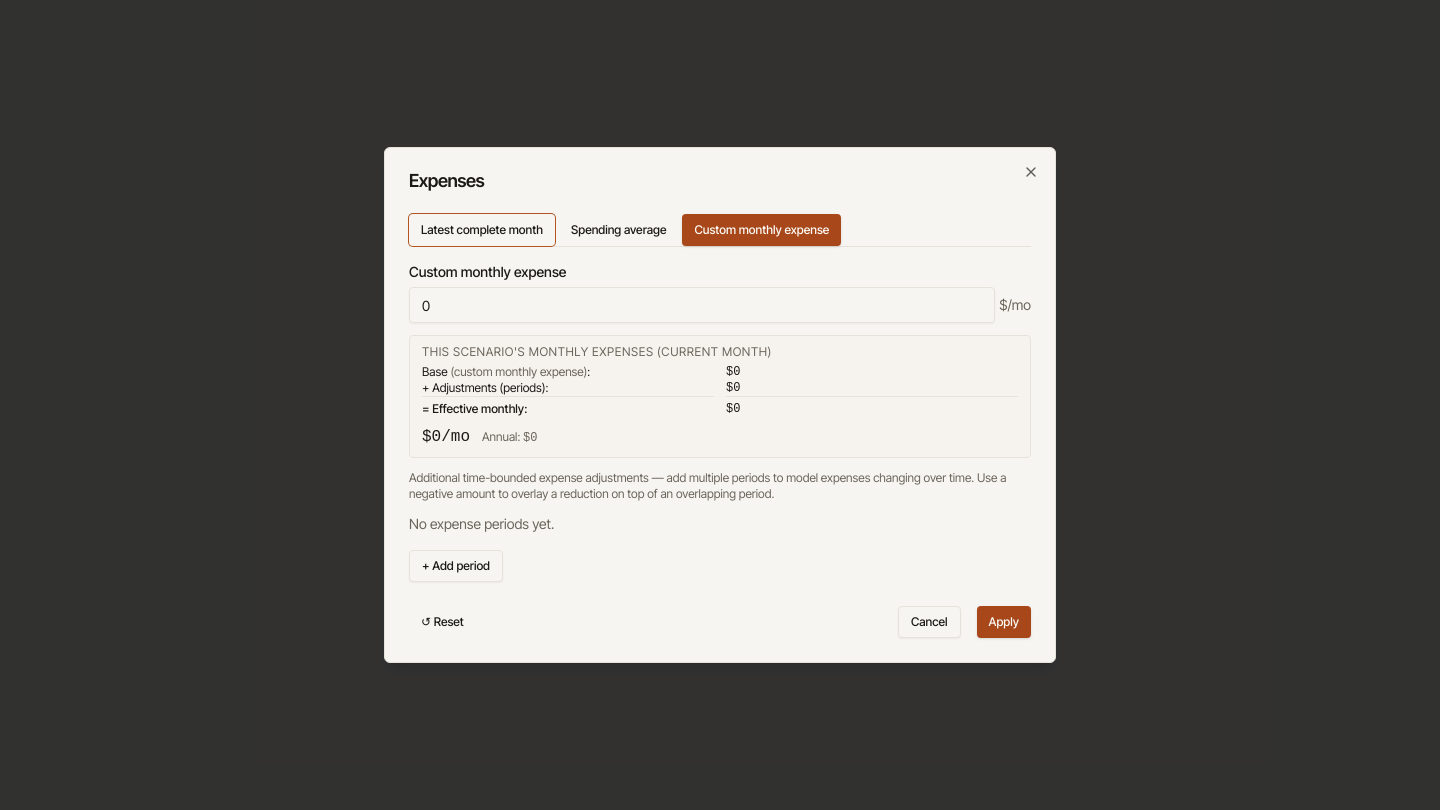
Test case: ExpensePeriodsPopover › clicking + Add appends a row and shows the live total-cost preview
Click the button "+ Add period". click: (456, 566)
box: [409,550,503,582]
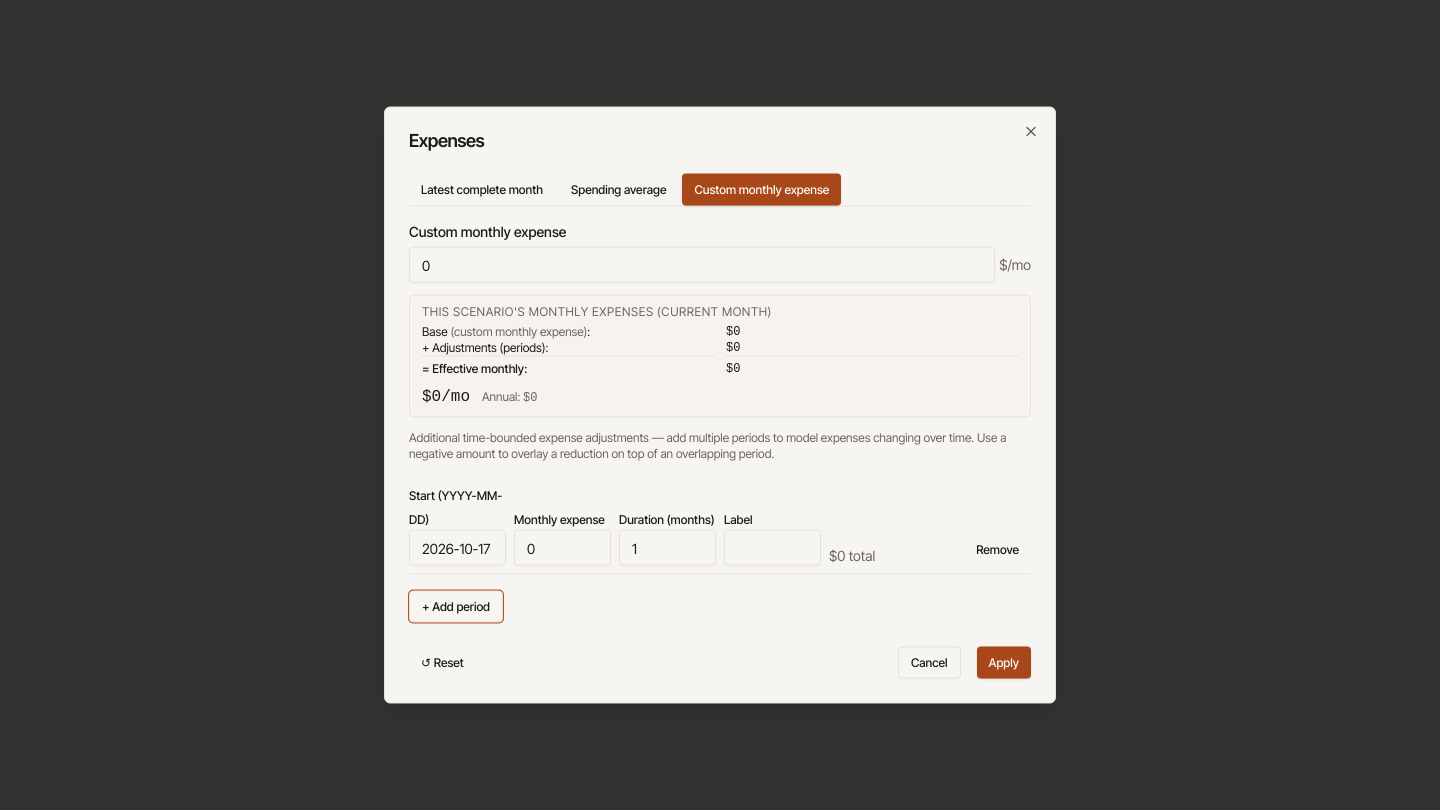
Replace the text in the field labelled "Start (YYYY-MM-DD)" with "2026-07-01". click: (458, 548)
box: [409,530,506,566]
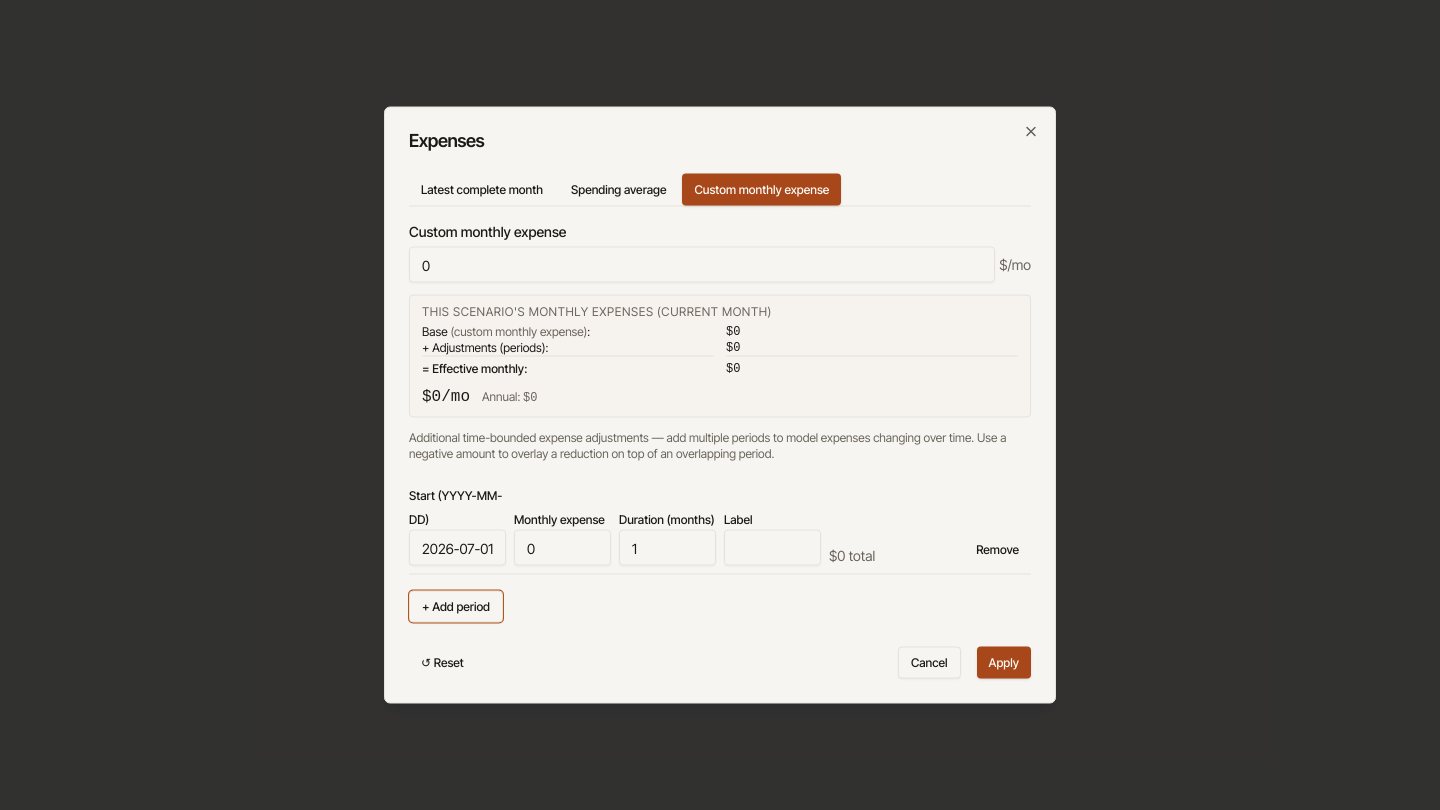
Replace the text in the number field labelled "Monthly expense" with "1500". click: (562, 548)
box: [514,530,611,566]
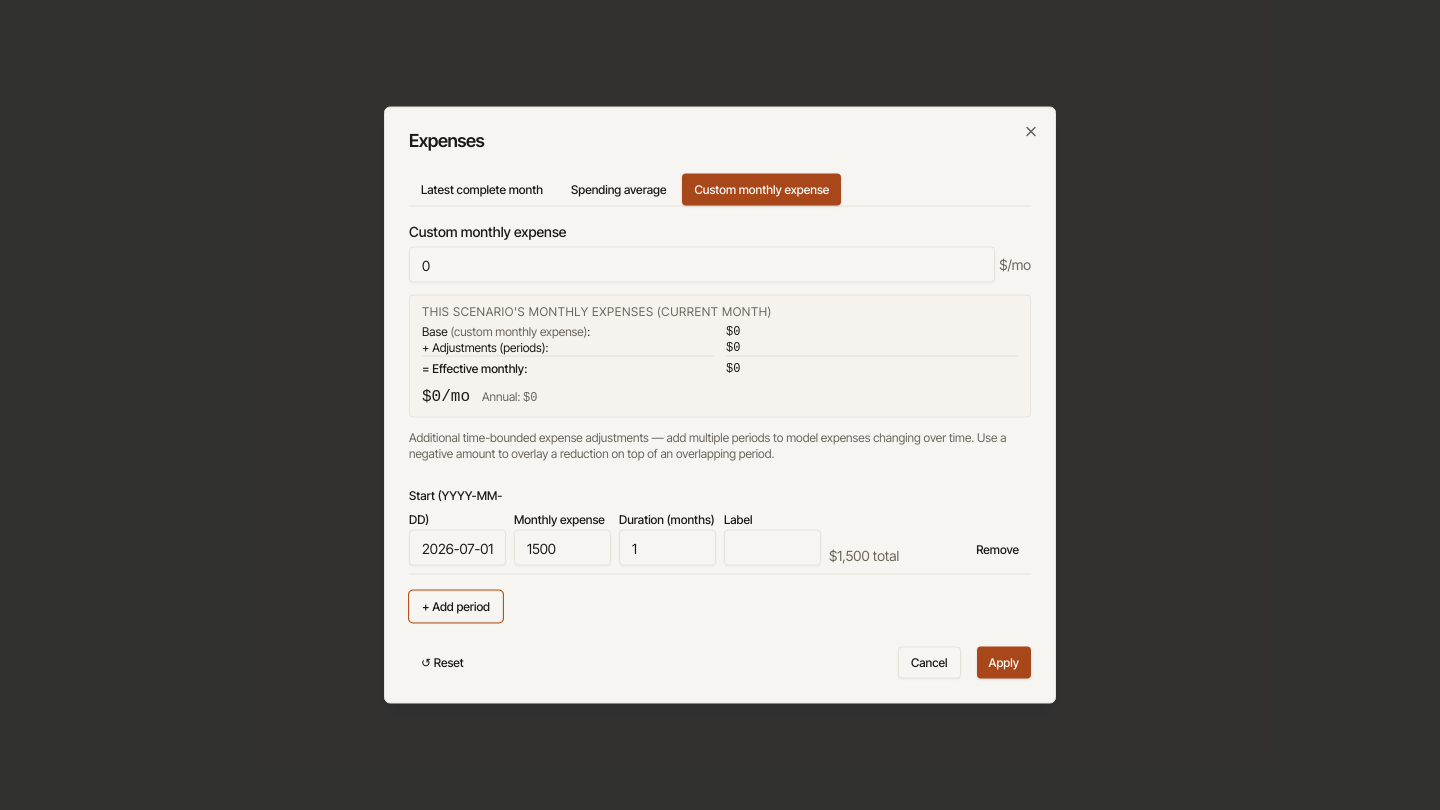
Replace the text in the number field labelled "Duration (months)" with "6". click: (668, 548)
box: [619,530,716,566]
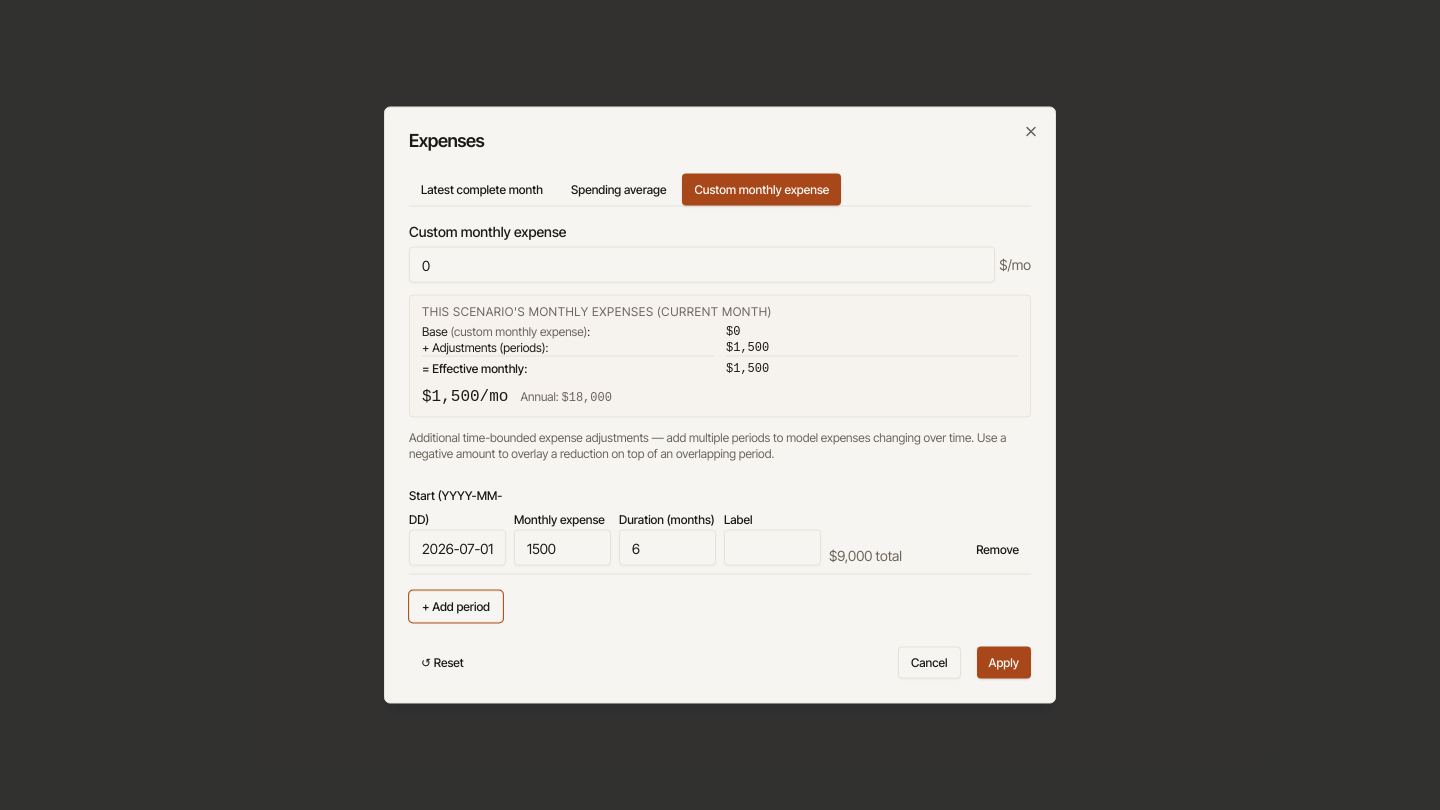
Now the text "$9,000 total" is shown, box [829,546,902,564]
